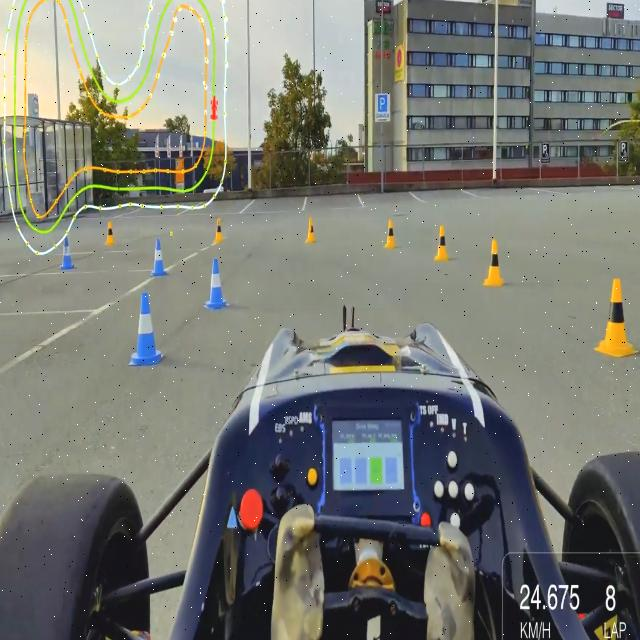blue_cone: (125, 288, 164, 378), (200, 254, 232, 316), (146, 242, 170, 280), (62, 234, 74, 270)
yellow_cone: (584, 270, 640, 364), (478, 234, 508, 291), (422, 216, 452, 266), (380, 212, 402, 264), (208, 214, 224, 246), (304, 213, 318, 246), (104, 218, 114, 246)
